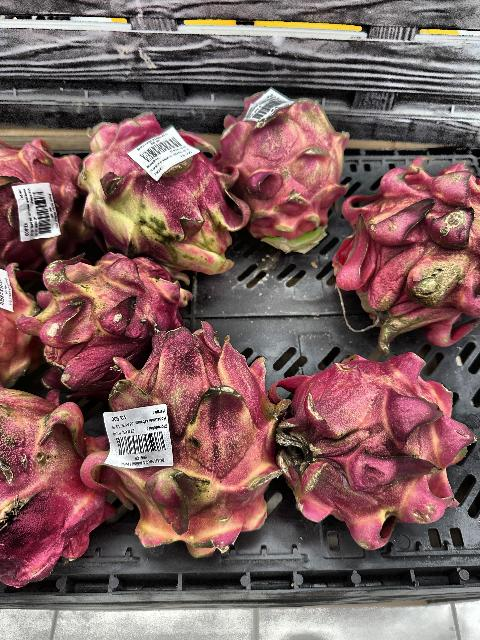buah-naga-belum-matang: (274, 348, 472, 546), (110, 330, 276, 560), (324, 120, 480, 338), (59, 108, 243, 276), (222, 85, 356, 258), (0, 378, 106, 592), (25, 248, 199, 372), (1, 266, 48, 376)
buah-naga-matang: (1, 136, 96, 262)
